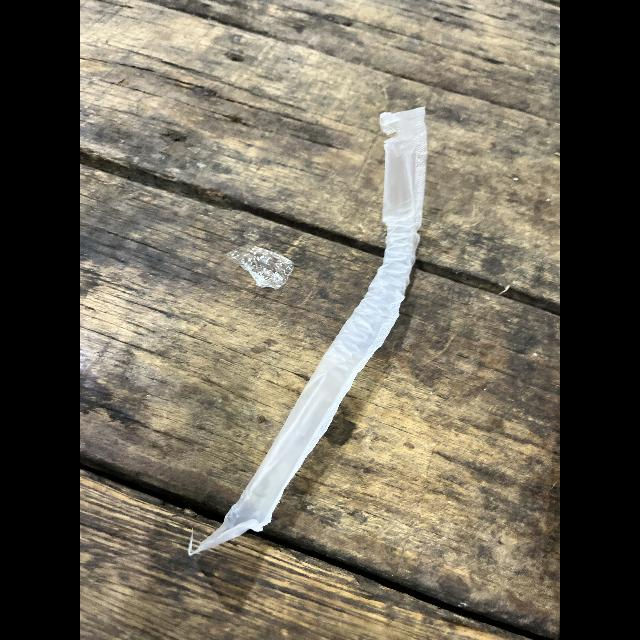scrap_plastic: (173, 94, 444, 568)
